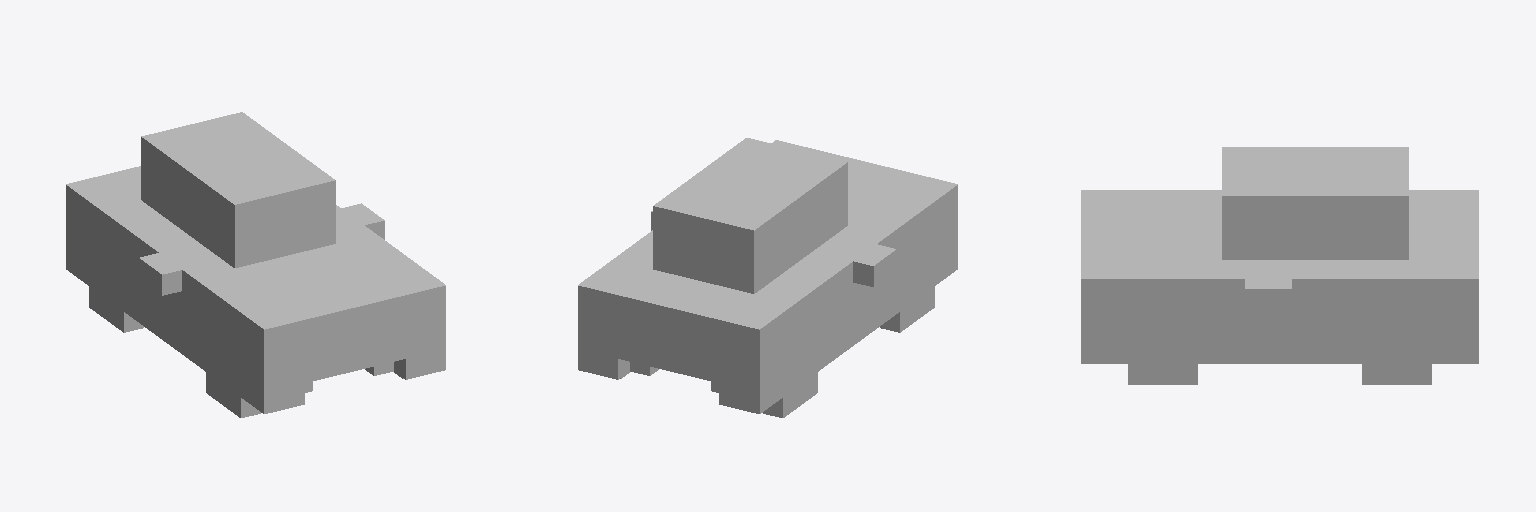
The model's file is green_car.obj.
3 renders of one model, left to right at view 1: azimuth 30°, elevation 25°; view 2: azimuth 150°, elevation 25°; view 3: azimuth 270°, elevation 25°, orthographic.
Visible parts, largest first — view 1: object 1; view 2: object 1; view 3: object 1.
Part boxes in pixels (x1,y1,x2,y2): object 1: (66,112,445,417); object 1: (578,138,957,417); object 1: (1081,147,1478,384).
Bounding box in the file's own units: 1.1 × 0.8 × 1.7.